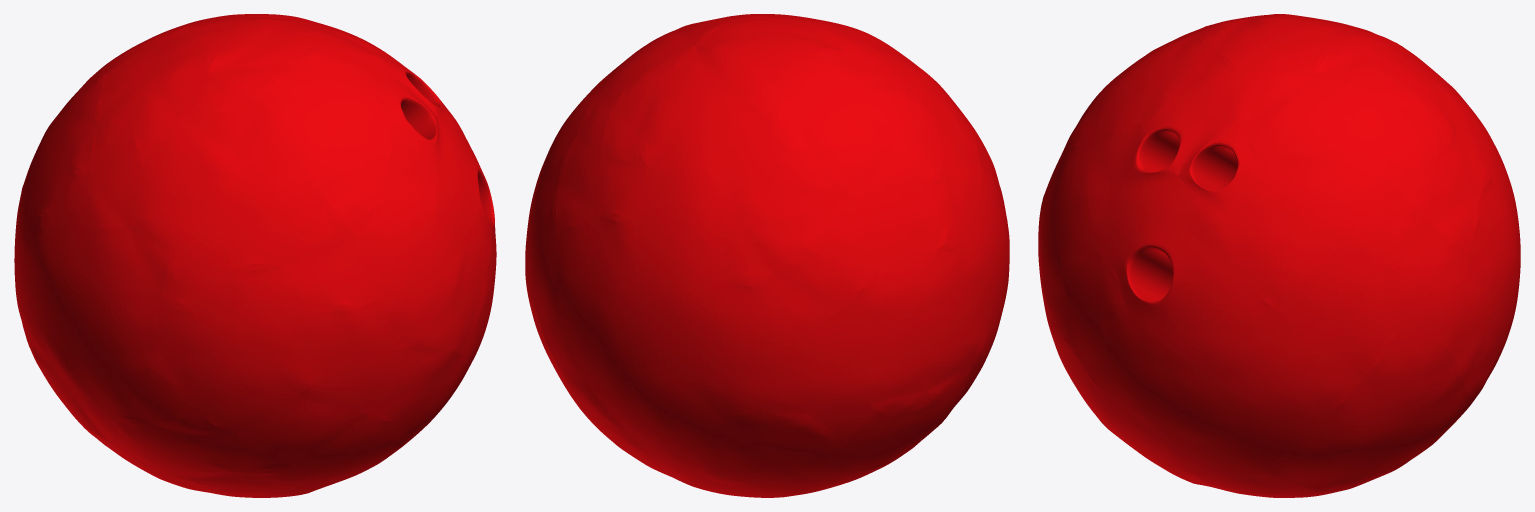
Rendered from Ball.fbx.
3 renders of one model, left to right at view 1: azimuth 30°, elevation 25°; view 2: azimuth 150°, elevation 25°; view 3: azimuth 270°, elevation 25°, orthographic.
Visible parts, largest first — view 1: Sphere; view 2: Sphere; view 3: Sphere.
Boxes of the visible parts, bbox=[...] form: Sphere: bbox=[14, 14, 496, 497]; Sphere: bbox=[525, 14, 1009, 497]; Sphere: bbox=[1038, 14, 1520, 497].
Bounding box in the file's own units: 0.9824 × 0.984 × 0.9828.
